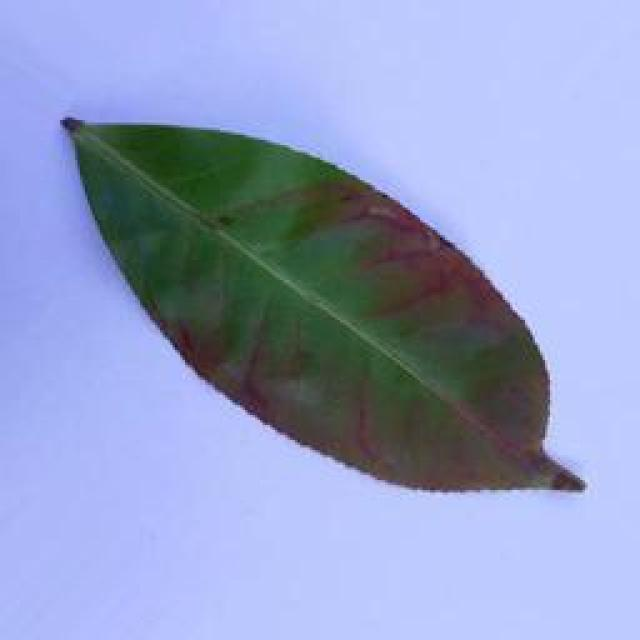Red Leaf Spot: (45, 97, 597, 509)
